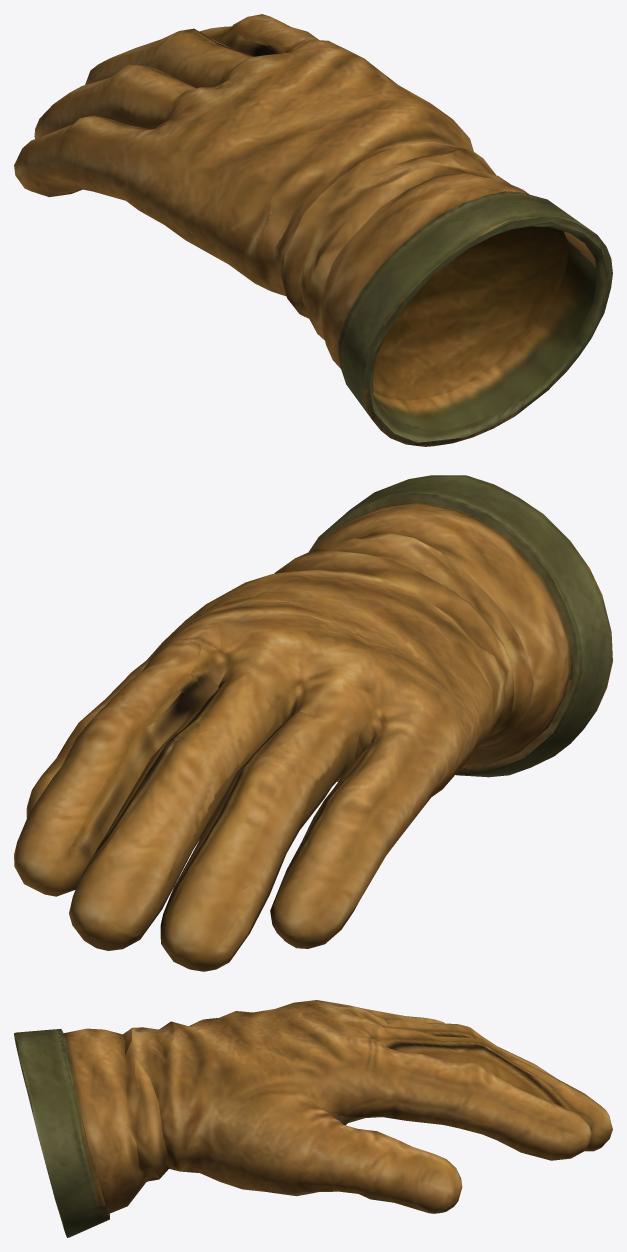
The model's file is item_mm9_10133.glb.
The picture shows the model from 3 angles, top to bottom: view 1: azimuth 30°, elevation 25°; view 2: azimuth 150°, elevation 25°; view 3: azimuth 270°, elevation 25°; orthographic projection. The views are drawn at different scales.
Parts seen in each view (by area): view 1: d10133; view 2: d10133; view 3: d10133.
Part boxes in pixels (bbox=[...]): d10133: bbox=[14, 14, 612, 446]; d10133: bbox=[14, 475, 612, 971]; d10133: bbox=[14, 1000, 612, 1237].
Size of the model in its own units: 0.538 by 0.4053 by 1.08.
1 material, 1 textured.
